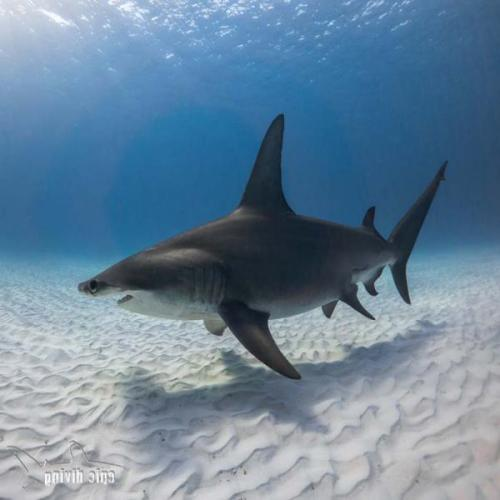shark-endangered: (77, 111, 449, 383)
